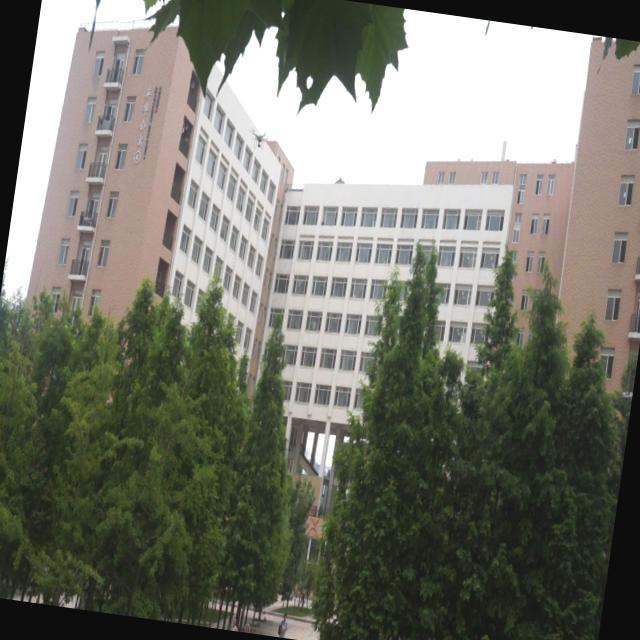drone: (250, 127, 270, 149)
